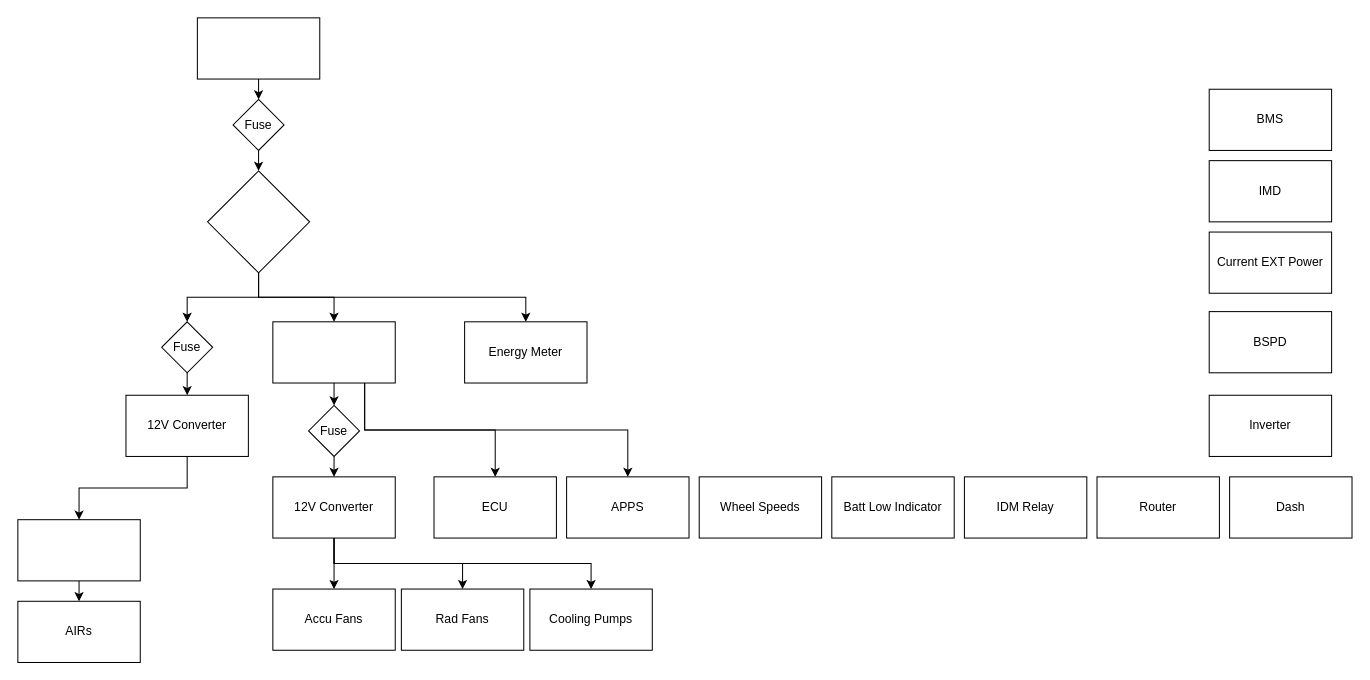
Some shapes in this 1370 by 680 pixel diagram are drawn without their labels. Each missing label, with the centre of its shape:
"LV Battery" belongs at (x=258, y=48).
"LV Master Switch" belongs at (x=258, y=221).
"PDM" belongs at (x=333, y=352).
"Shutdown Circuit" belongs at (x=78, y=550).
